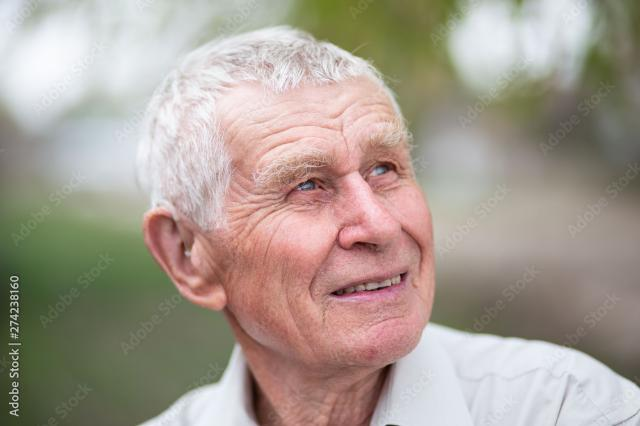chin: (372, 312, 408, 328)
crows_feet: (252, 188, 284, 218), (399, 162, 415, 186)
forehead: (255, 117, 292, 151), (292, 104, 320, 142), (358, 92, 392, 112), (323, 112, 351, 136)
gummy_smile: (312, 234, 338, 286), (398, 224, 429, 264)
masseter: (260, 234, 280, 262)
